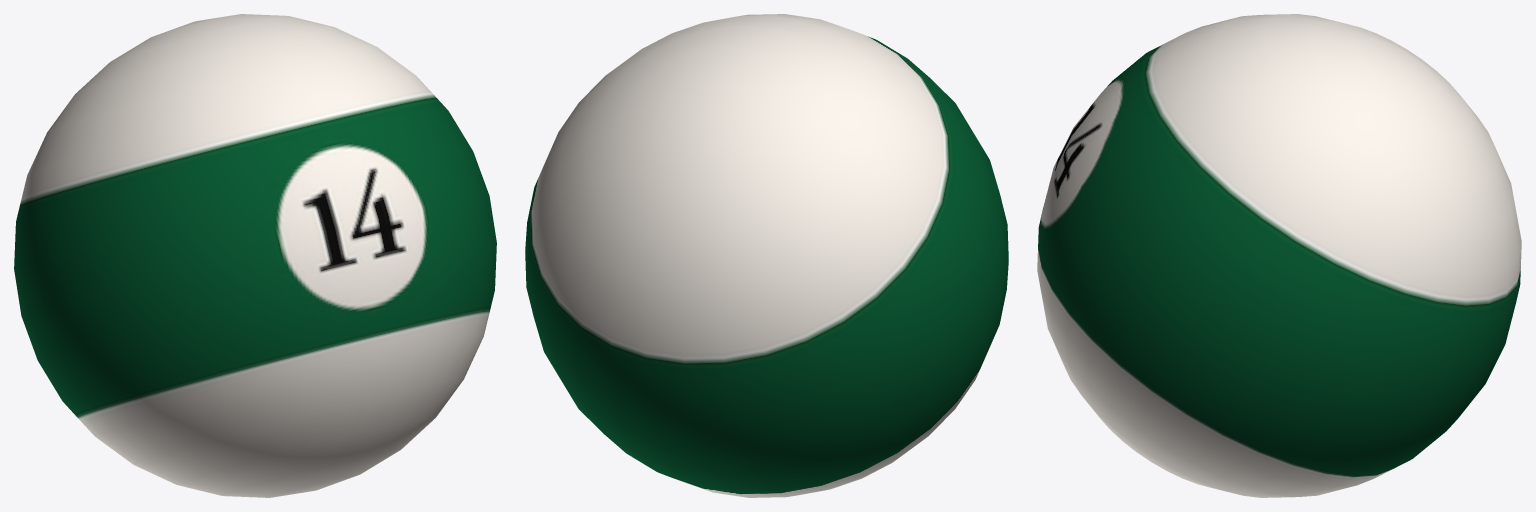
Rendered from semi_green.glb.
3 views of the same model, side by side, from view 1: azimuth 30°, elevation 25°; view 2: azimuth 150°, elevation 25°; view 3: azimuth 270°, elevation 25° (orthographic).
Visible parts, largest first — view 1: Ball14_05 - Default_0; view 2: Ball14_05 - Default_0; view 3: Ball14_05 - Default_0.
Part boxes in pixels (left/top/right/bottom): Ball14_05 - Default_0: left=14, top=14, right=496, bottom=497; Ball14_05 - Default_0: left=525, top=14, right=1008, bottom=497; Ball14_05 - Default_0: left=1037, top=14, right=1521, bottom=497.
Size of the model in its own units: 37.86 by 37.78 by 37.78.
Materials: 1 (1 with a texture image).
